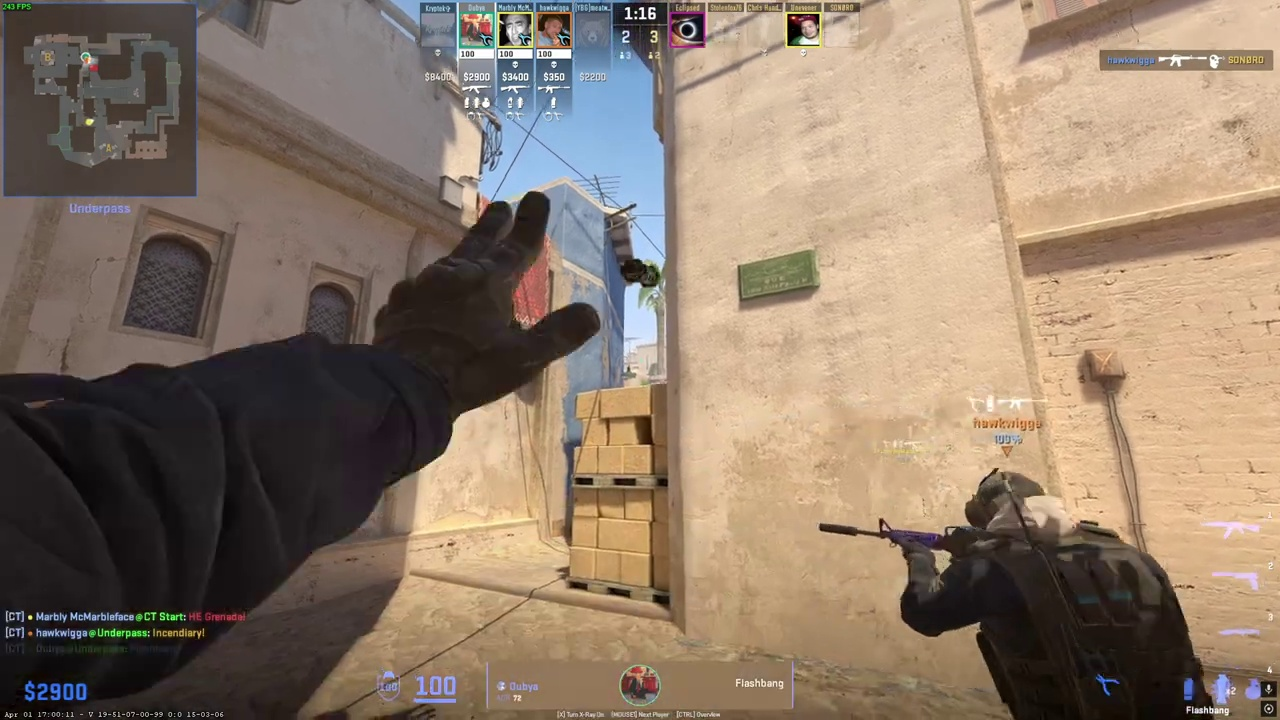CT: (930, 469, 1185, 720)
